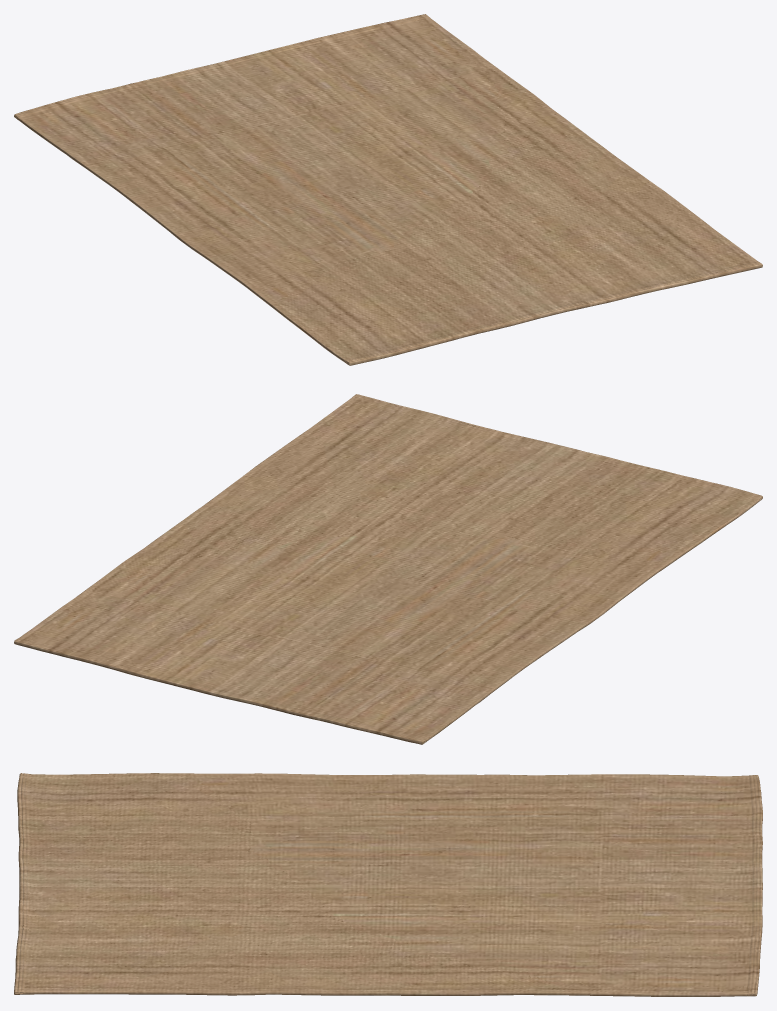
Rendered from LB-BR-RUG-03.glb.
3 renders of one model, top to bottom at view 1: azimuth 30°, elevation 25°; view 2: azimuth 150°, elevation 25°; view 3: azimuth 270°, elevation 25°, orthographic. The views are drawn at different scales.
Parts seen in each view (by area): view 1: Mesh_0; view 2: Mesh_0; view 3: Mesh_0.
Part boxes in pixels (box(x1,y1,x2,y2)): Mesh_0: box(14, 14, 762, 365); Mesh_0: box(14, 394, 762, 744); Mesh_0: box(14, 773, 762, 996).
Size of the model in its own units: 1.63 by 0.0194 by 2.33.
1 material, 1 textured.
